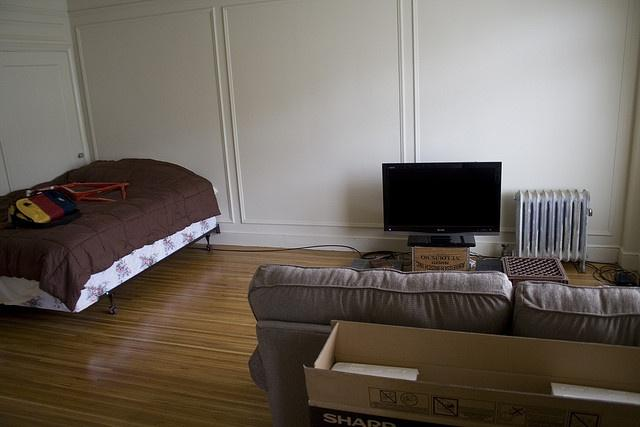AIO PC-Monitor-TV: (382, 161, 501, 246)
